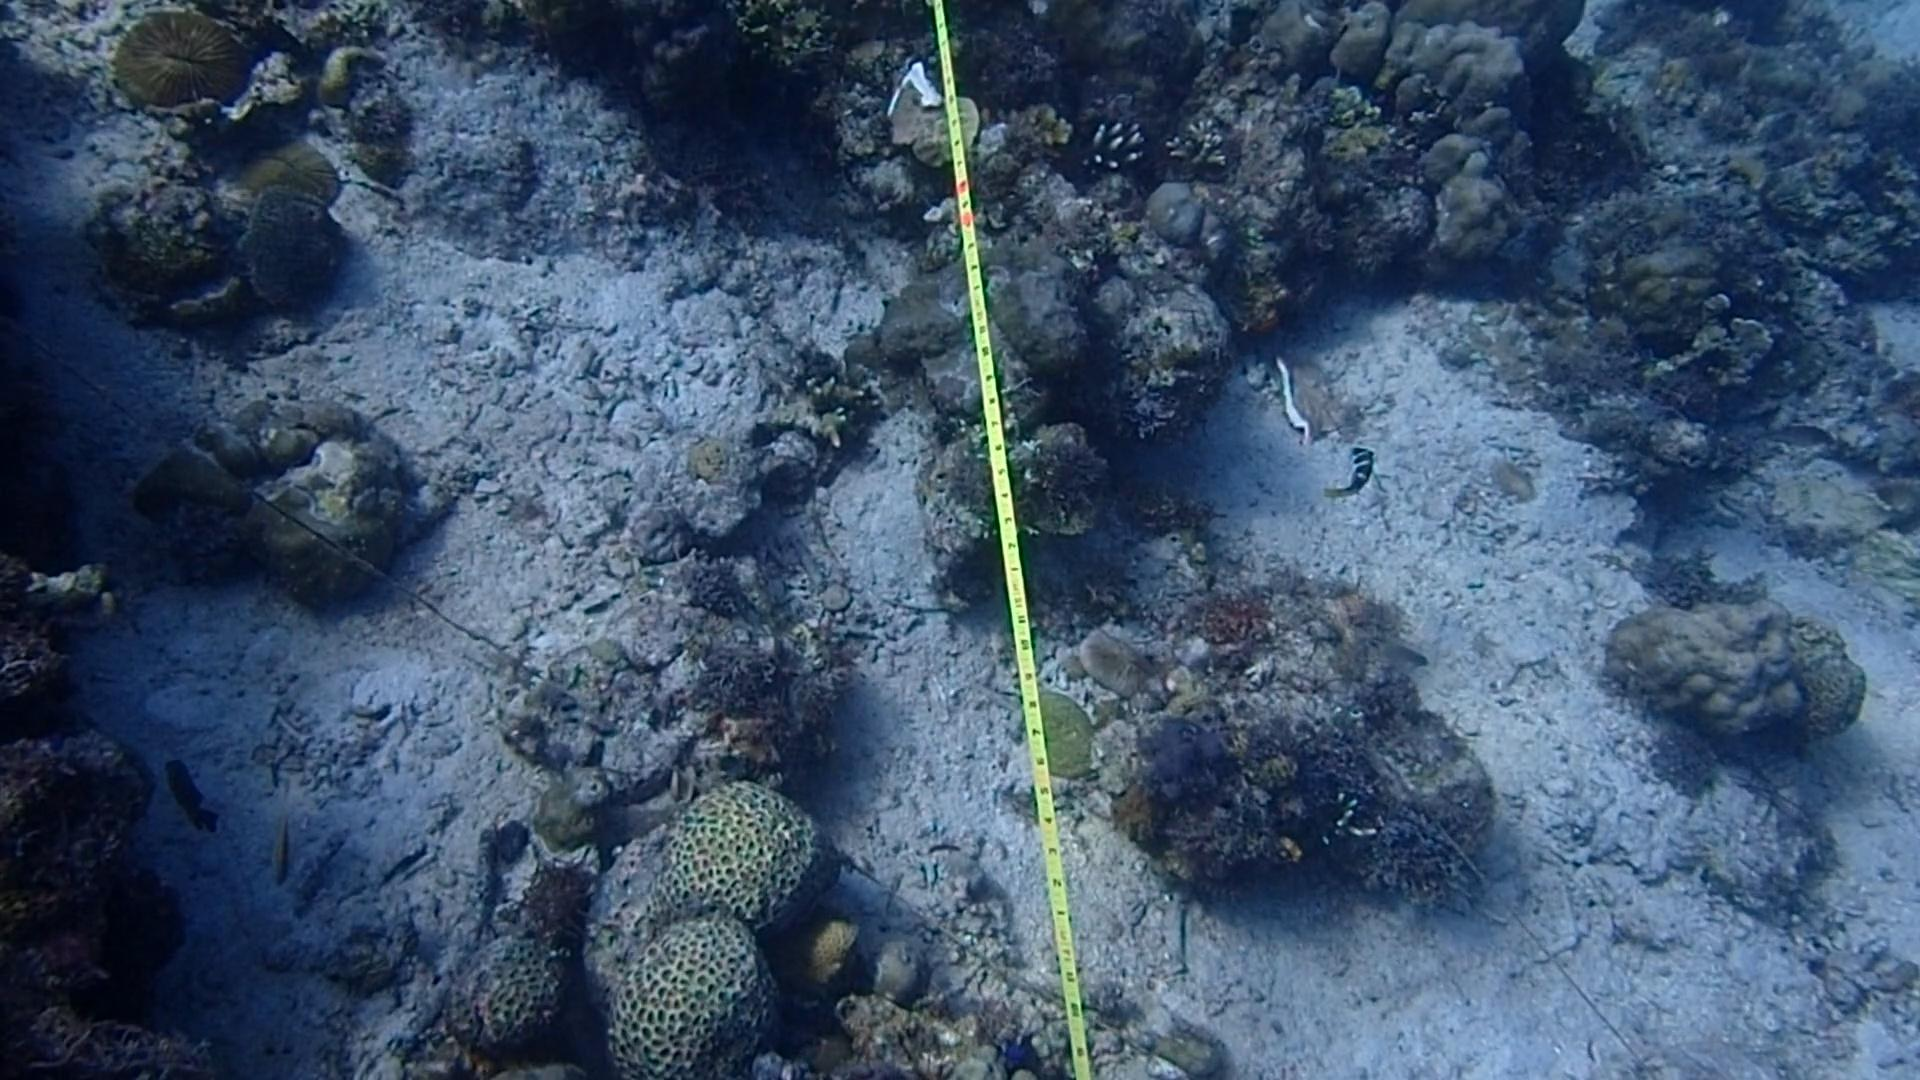Striped Fish: (1308, 433, 1383, 512)
